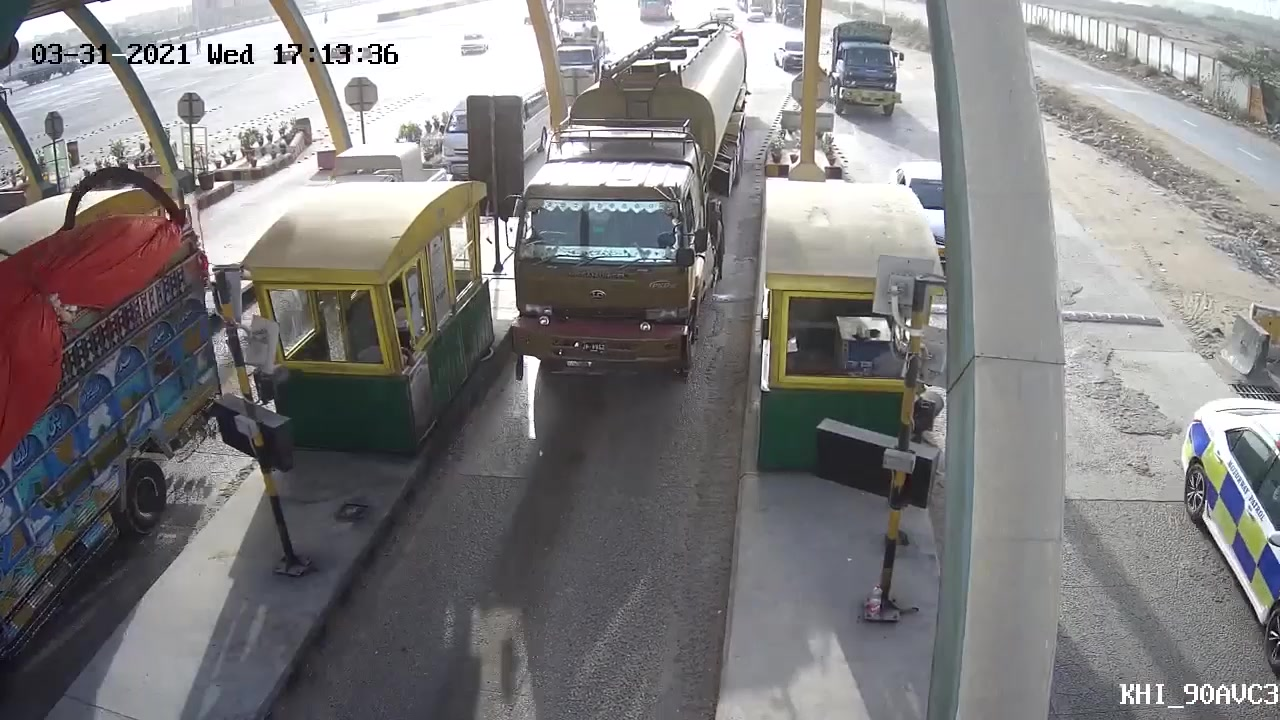F6: (496, 61, 722, 401)
